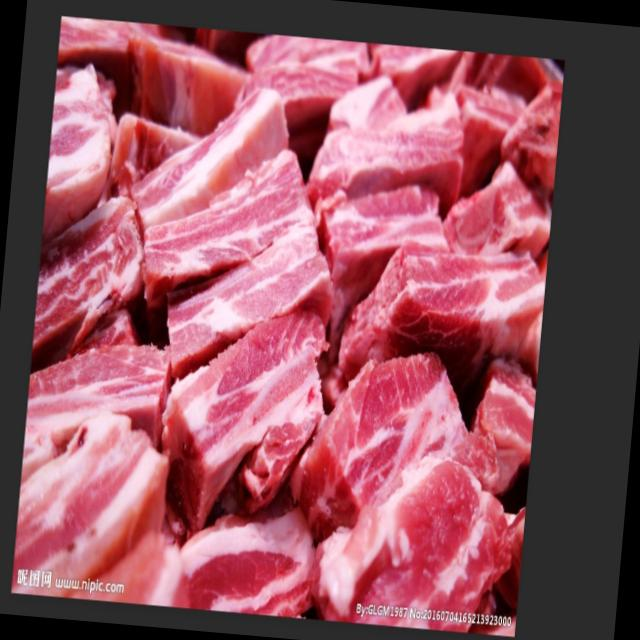pork: (336, 242, 542, 426), (158, 320, 323, 538), (286, 358, 464, 537), (143, 151, 302, 323), (334, 466, 511, 612), (172, 226, 328, 373), (314, 193, 444, 360), (23, 423, 156, 569), (306, 103, 454, 210), (26, 349, 169, 451)
